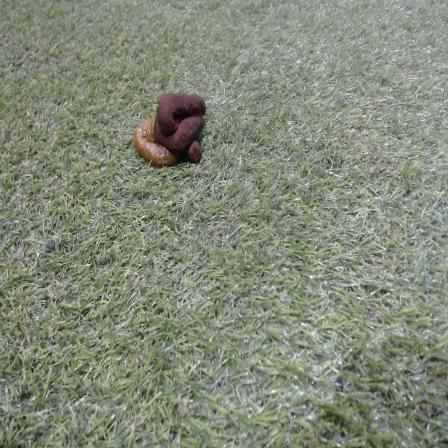dog-poop: (131, 88, 211, 170)
